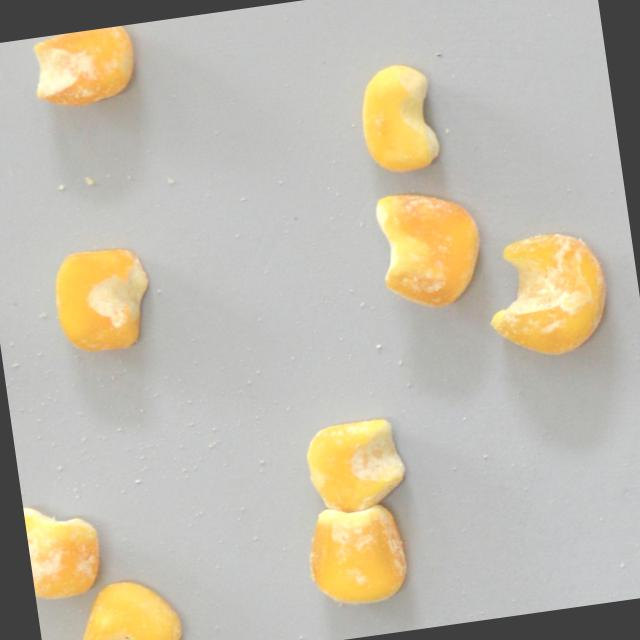dañado: (361, 180, 495, 319), (294, 496, 416, 618), (22, 23, 146, 116), (23, 493, 110, 605)
pelicula: (473, 219, 622, 367), (47, 240, 159, 358), (298, 409, 416, 520), (353, 58, 444, 180)
punto_negro: (66, 570, 188, 640)
